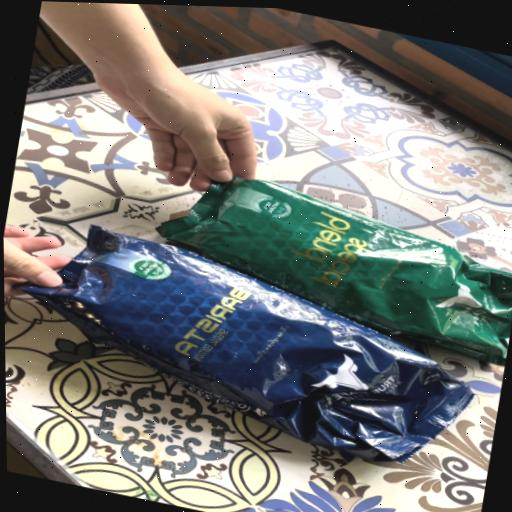cafe_hat: (23, 225, 473, 460)
cafe_xay: (157, 177, 512, 364)
